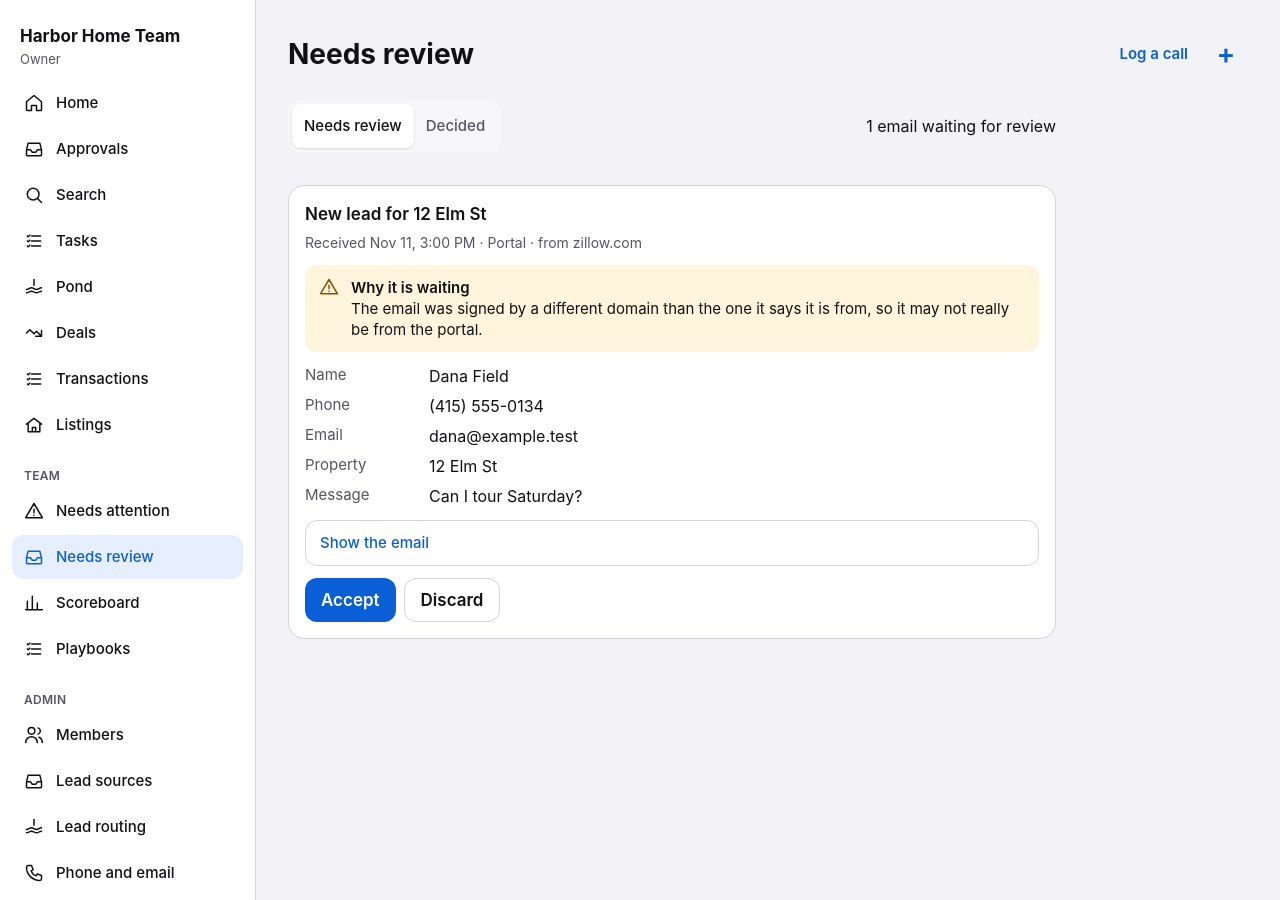
Test: Needs review › Accept is one tap when the email has a contact point; "Lead created" links to the contact
Click the button with aria-label "Accept: New lead for 12 Elm St" at (350, 600), box x1=305 y1=578 x2=396 y2=622
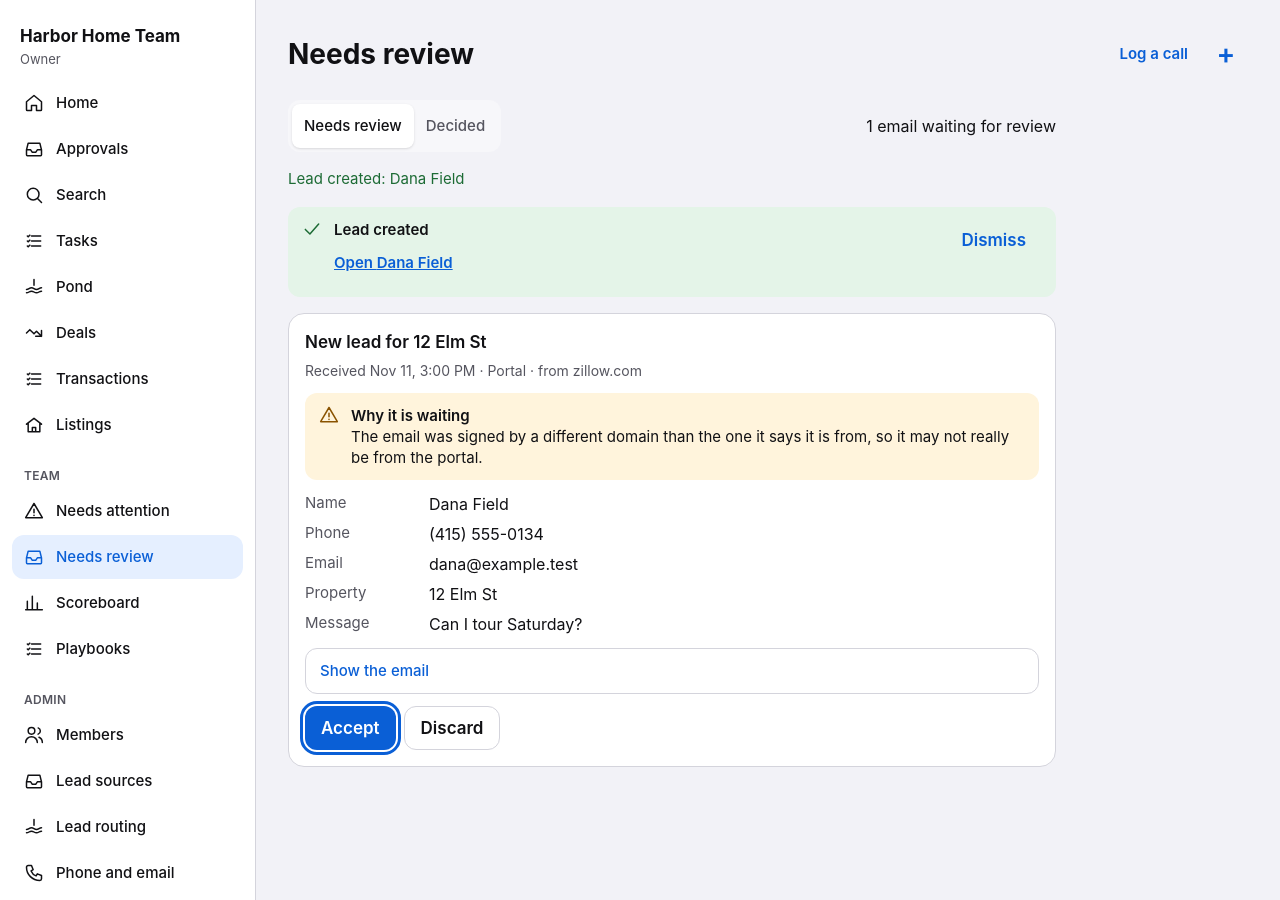
Result: the text "Lead created" is shown at x1=334 y1=220 x2=429 y2=238
